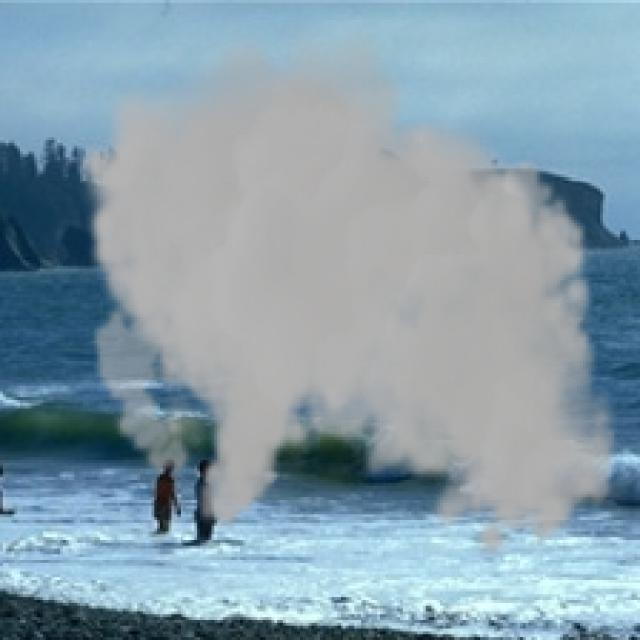Smoke: (74, 17, 620, 563)
